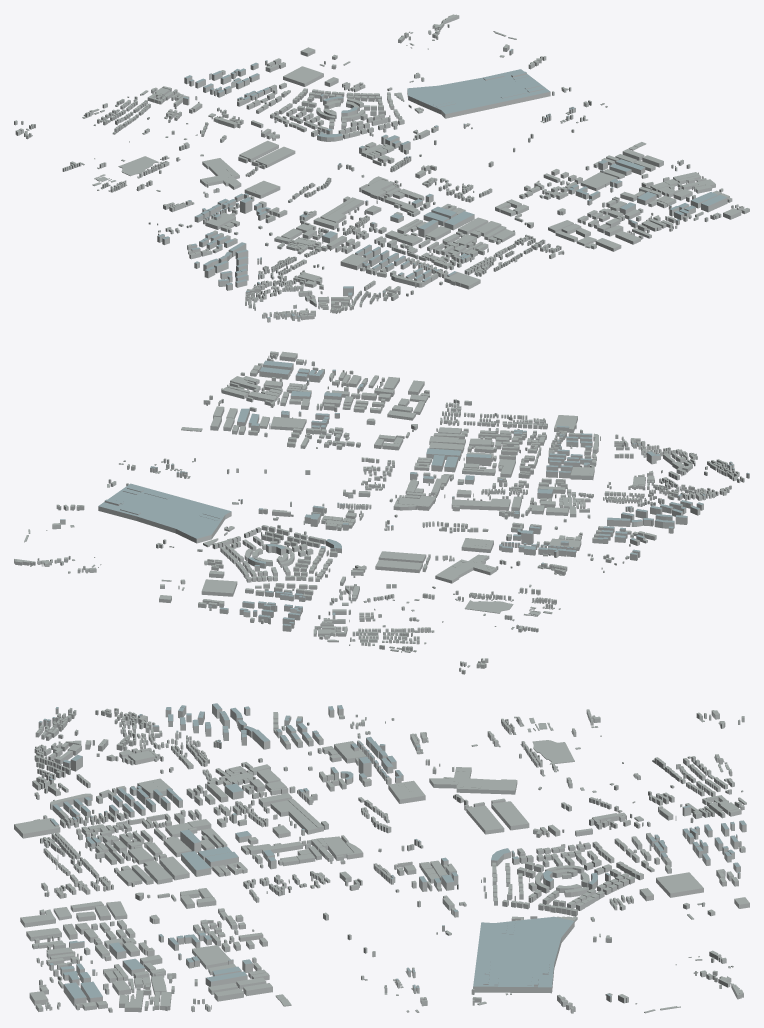
Rendered from far.glb.
The picture shows the model from 3 angles, top to bottom: view 1: azimuth 30°, elevation 25°; view 2: azimuth 150°, elevation 25°; view 3: azimuth 270°, elevation 25°; orthographic projection. The views are drawn at different scales.
Bounding box in the file's own units: 2117 × 46.59 × 2184.
